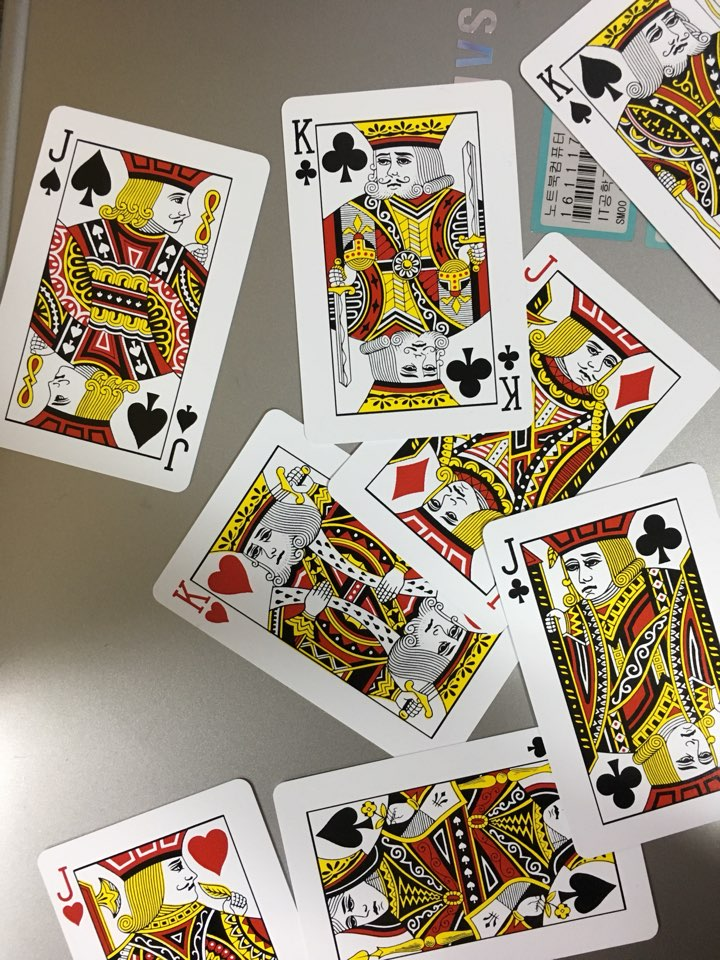jack: (308, 215, 720, 662), (1, 94, 280, 507), (456, 452, 720, 876), (20, 751, 321, 960)
king: (138, 393, 550, 790), (263, 65, 555, 449), (503, 1, 719, 366)
queen: (256, 701, 685, 960)
